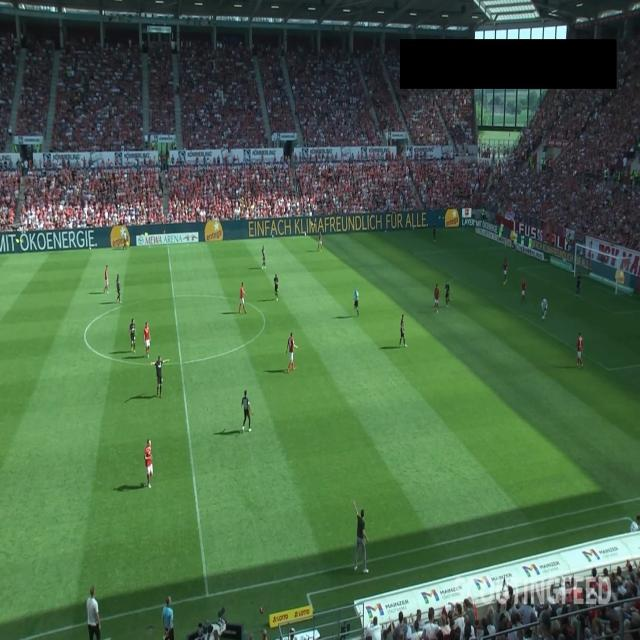ball: (542, 315, 544, 320)
